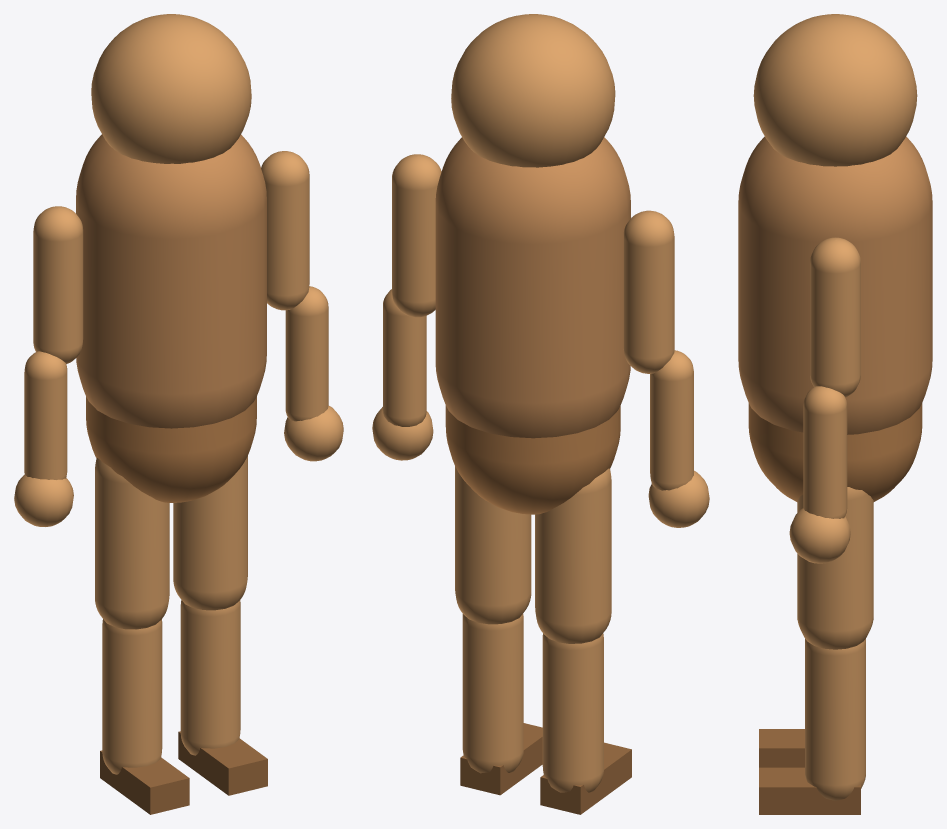
The picture shows the model from 3 angles, left to right: view 1: azimuth 30°, elevation 25°; view 2: azimuth 150°, elevation 25°; view 3: azimuth 270°, elevation 25°; orthographic projection. The views are drawn at different scales.
Parts seen in each view (by area): view 1: Thorax, Head, Abdomen, LeftThigh, RightThigh, LeftShin, RightShin, LeftUpperArm, RightUpperArm, LeftForearm, RightForearm, LeftFoot (+3 smaller); view 2: Thorax, Head, Abdomen, LeftThigh, RightThigh, LeftShin, RightShin, LeftUpperArm, RightUpperArm, LeftForearm, RightForearm, LeftFoot (+3 smaller); view 3: Thorax, Head, RightShin, RightThigh, Abdomen, RightUpperArm, RightForearm, RightFoot, RightHand, LeftFoot.
Boxes of the visible parts, x1,y1,x2,y2 form: Thorax: (76, 134, 266, 428); Head: (91, 14, 251, 163); Abdomen: (86, 396, 256, 502); LeftThigh: (95, 458, 169, 629); RightThigh: (173, 456, 247, 610); LeftShin: (102, 619, 162, 774); RightShin: (180, 600, 240, 755); LeftUpperArm: (33, 206, 83, 363); RightUpperArm: (261, 151, 309, 310); LeftForearm: (24, 351, 67, 479); RightForearm: (285, 286, 328, 421); LeftFoot: (100, 750, 189, 814); Thorax: (435, 137, 630, 438); Head: (451, 14, 615, 167); Abdomen: (445, 405, 620, 514); LeftThigh: (535, 468, 611, 643); RightThigh: (455, 466, 531, 624); LeftShin: (542, 633, 603, 792); RightShin: (462, 614, 523, 773); LeftUpperArm: (623, 210, 674, 373); RightUpperArm: (392, 154, 441, 317); LeftForearm: (650, 350, 693, 490); RightForearm: (383, 289, 426, 426); LeftFoot: (540, 742, 631, 814); Thorax: (738, 136, 932, 434); Head: (753, 14, 917, 166); RightShin: (805, 639, 865, 800); RightThigh: (797, 487, 873, 649); Abdomen: (748, 403, 922, 501); RightUpperArm: (810, 237, 860, 397); RightForearm: (803, 386, 847, 518); RightFoot: (759, 767, 860, 814); RightHand: (789, 508, 850, 563); LeftFoot: (759, 729, 804, 767).
Bounding box in the file's own units: 0.74 × 1.65 × 0.38.
